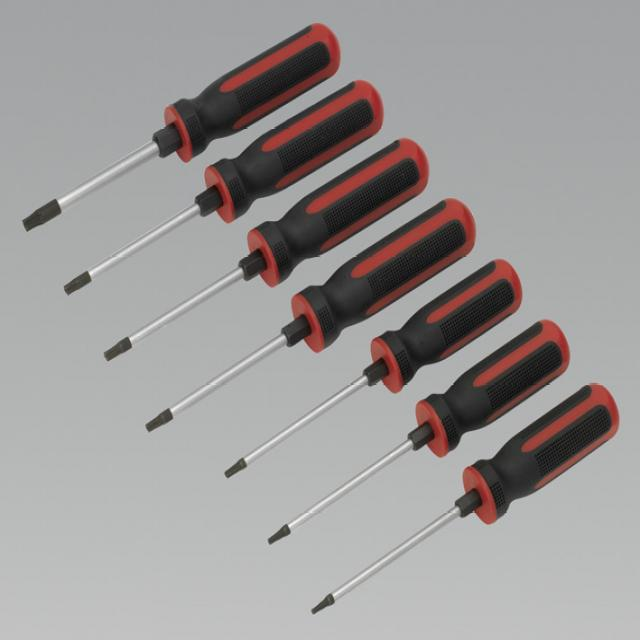Screwdriver: (138, 194, 480, 438), (295, 377, 627, 627), (95, 132, 439, 368), (252, 315, 574, 551), (60, 77, 388, 304), (219, 253, 528, 487), (5, 21, 339, 233)
